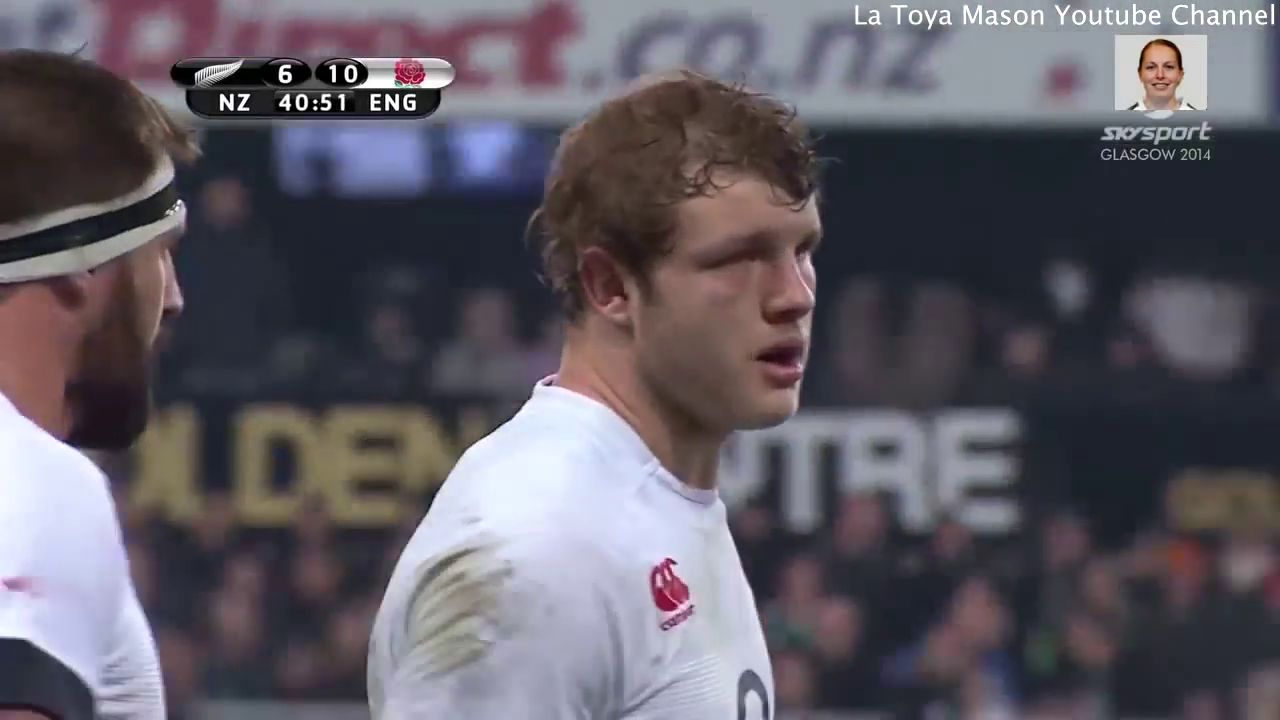player: (349, 52, 850, 720), (1, 28, 213, 720)
